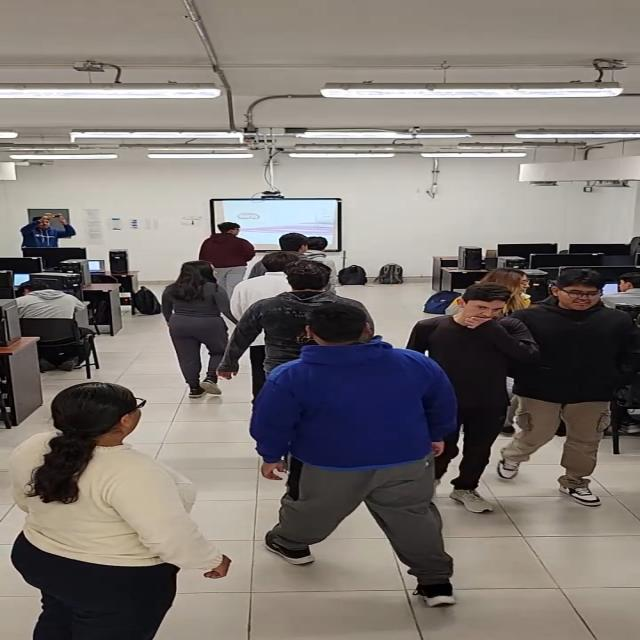Persona: (276, 302, 452, 612), (19, 380, 232, 635), (526, 270, 625, 504), (444, 280, 522, 511), (163, 257, 228, 393), (262, 261, 332, 351), (19, 210, 94, 266), (204, 221, 246, 270), (281, 232, 331, 265)
